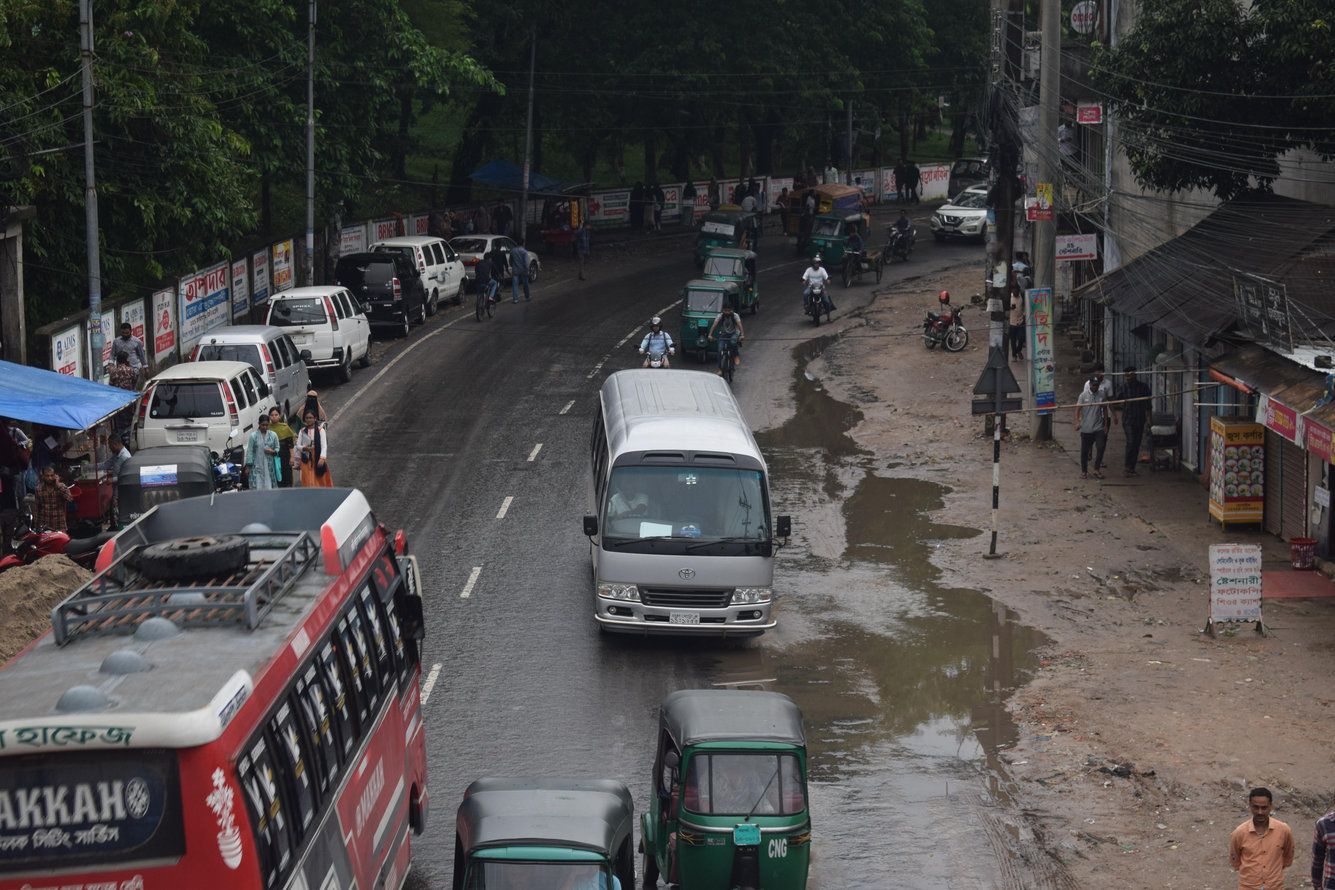Bike: (907, 275, 979, 371), (793, 255, 840, 338), (876, 211, 923, 273), (631, 312, 680, 370)
Bus: (0, 485, 462, 890)
Car: (560, 353, 819, 662), (113, 359, 288, 487), (175, 318, 310, 423), (257, 279, 389, 381), (356, 228, 471, 324), (320, 245, 431, 336)
